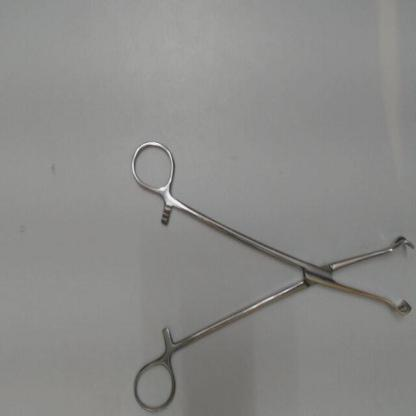8 Babcock Tissue Forceps: (126, 130, 414, 414)
